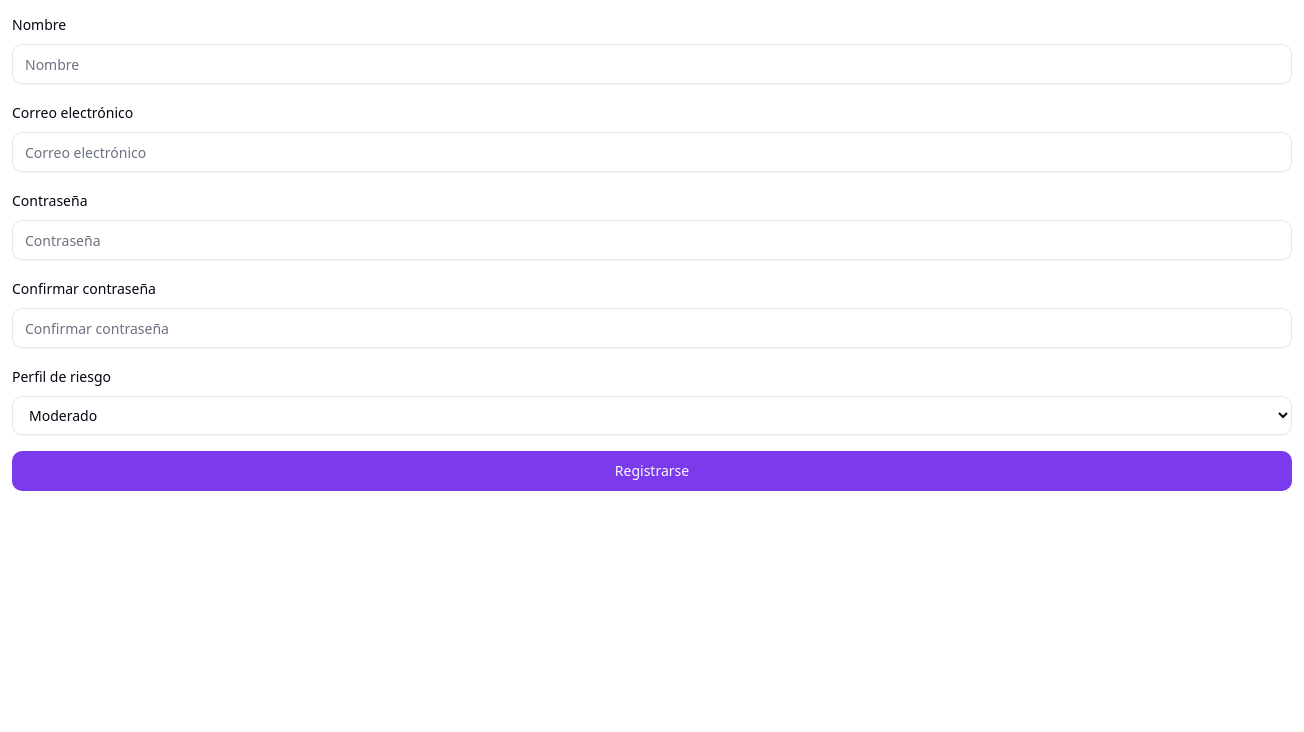
Test case: RegisterForm › muestra error cuando las contraseñas no coinciden
The width and height of the screenshot is (1304, 732).
Type "Jane" into the field with placeholder "Nombre" at (652,64), box [12,44,1292,84]
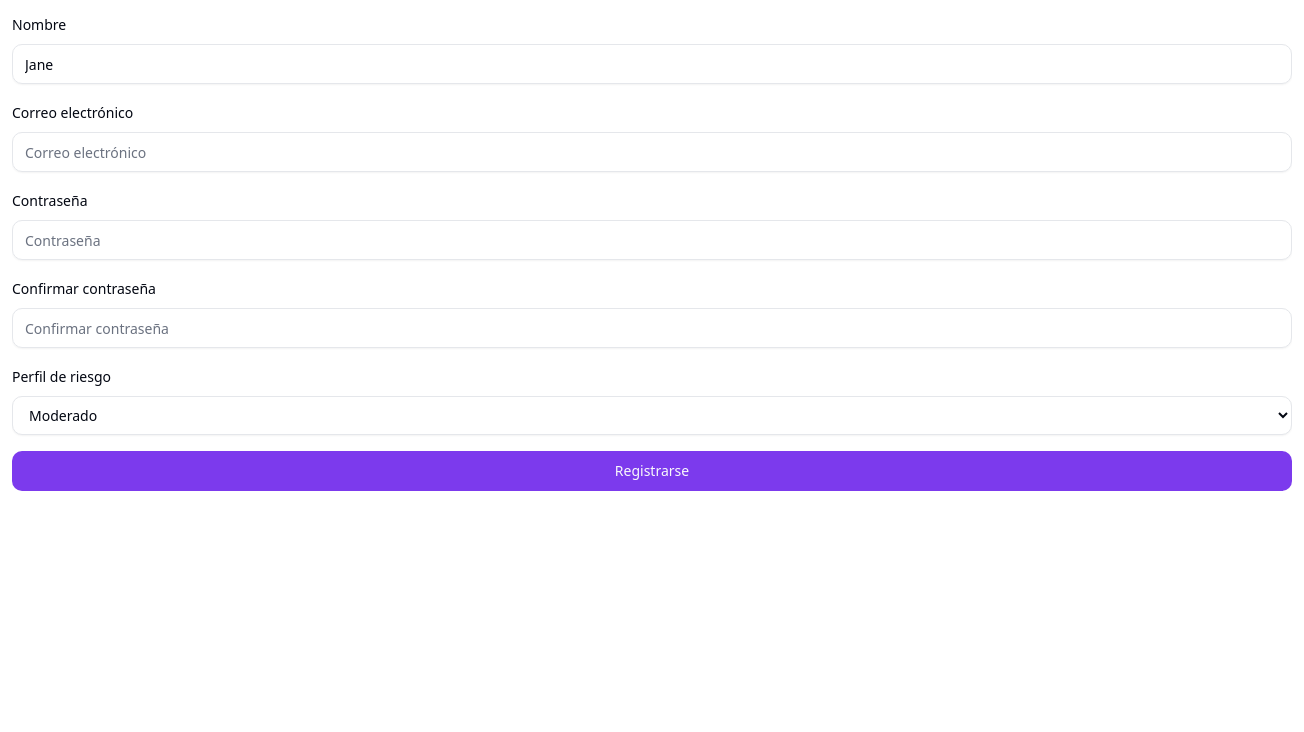
Type "user@example.com" into the field with placeholder "Correo electrónico" at (652,152), box [12,132,1292,172]
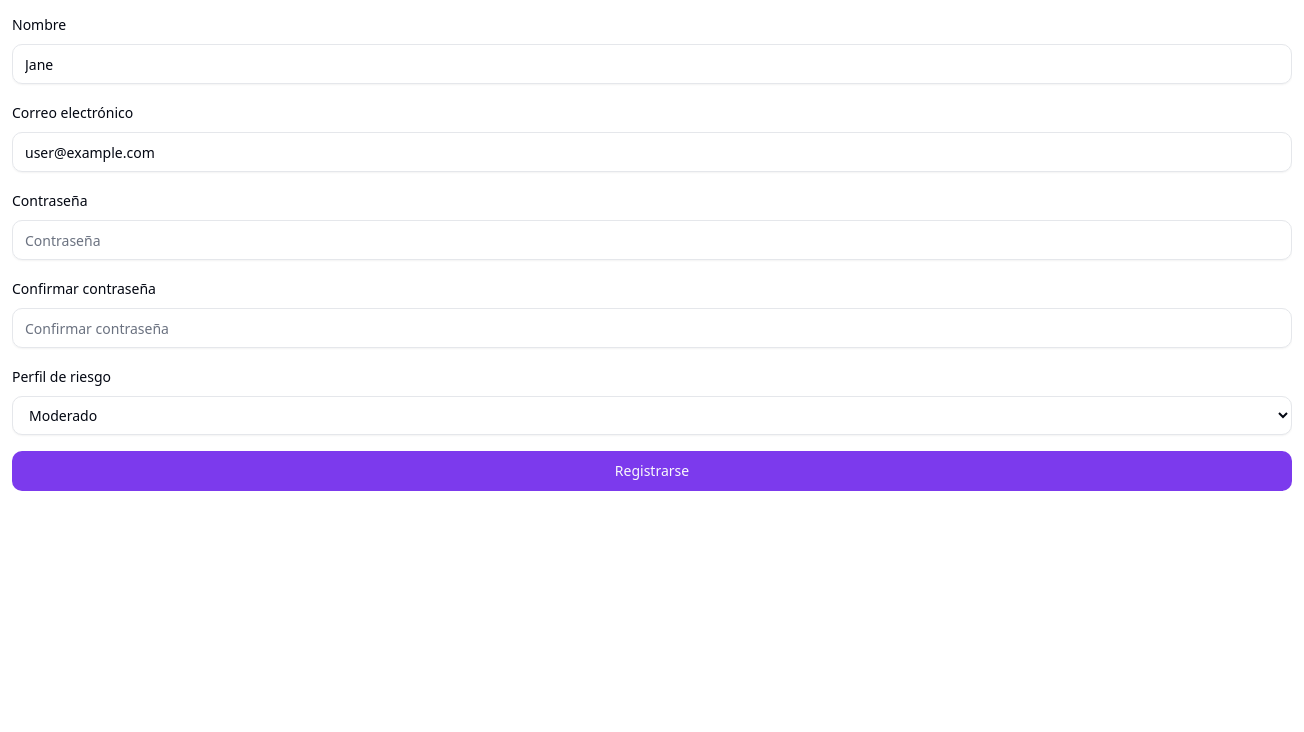
Type "secret123" into the password field with placeholder "Contraseña" at (652,240), box [12,220,1292,260]
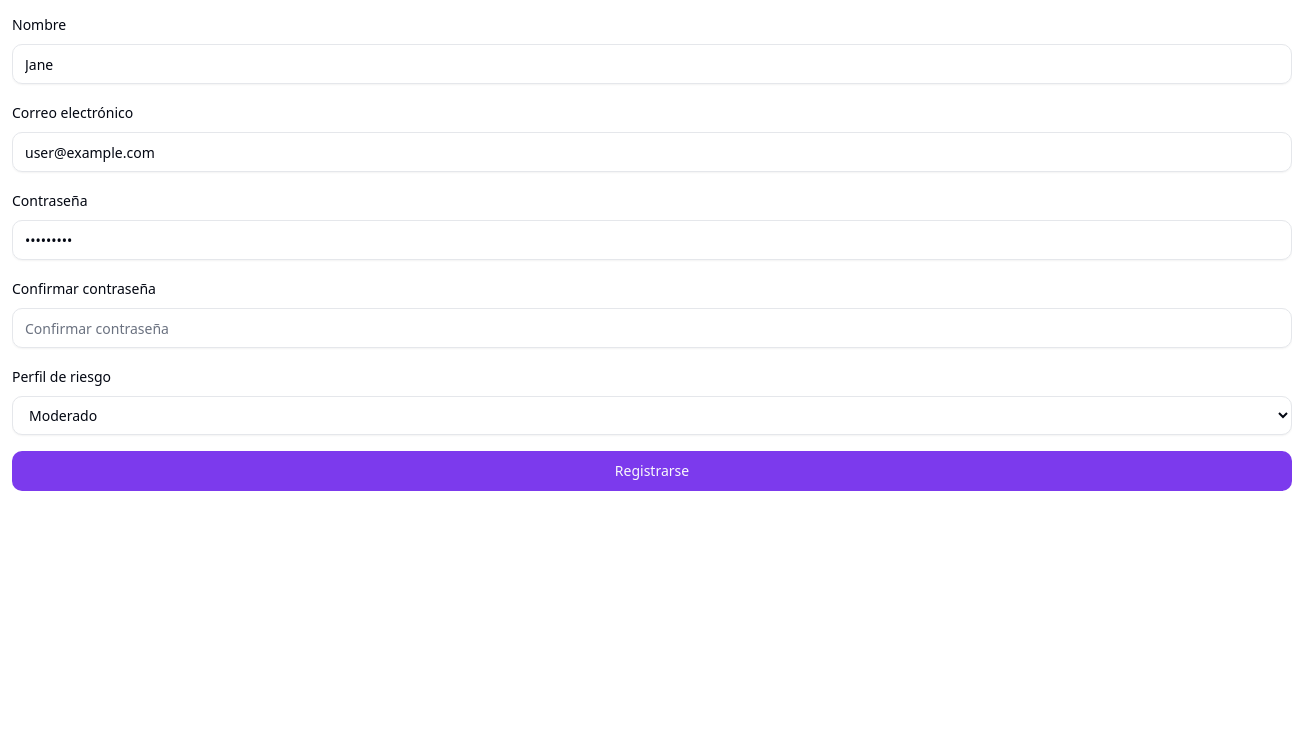
Type "otra" into the password field with placeholder "Confirmar contraseña" at (652,328), box [12,308,1292,348]
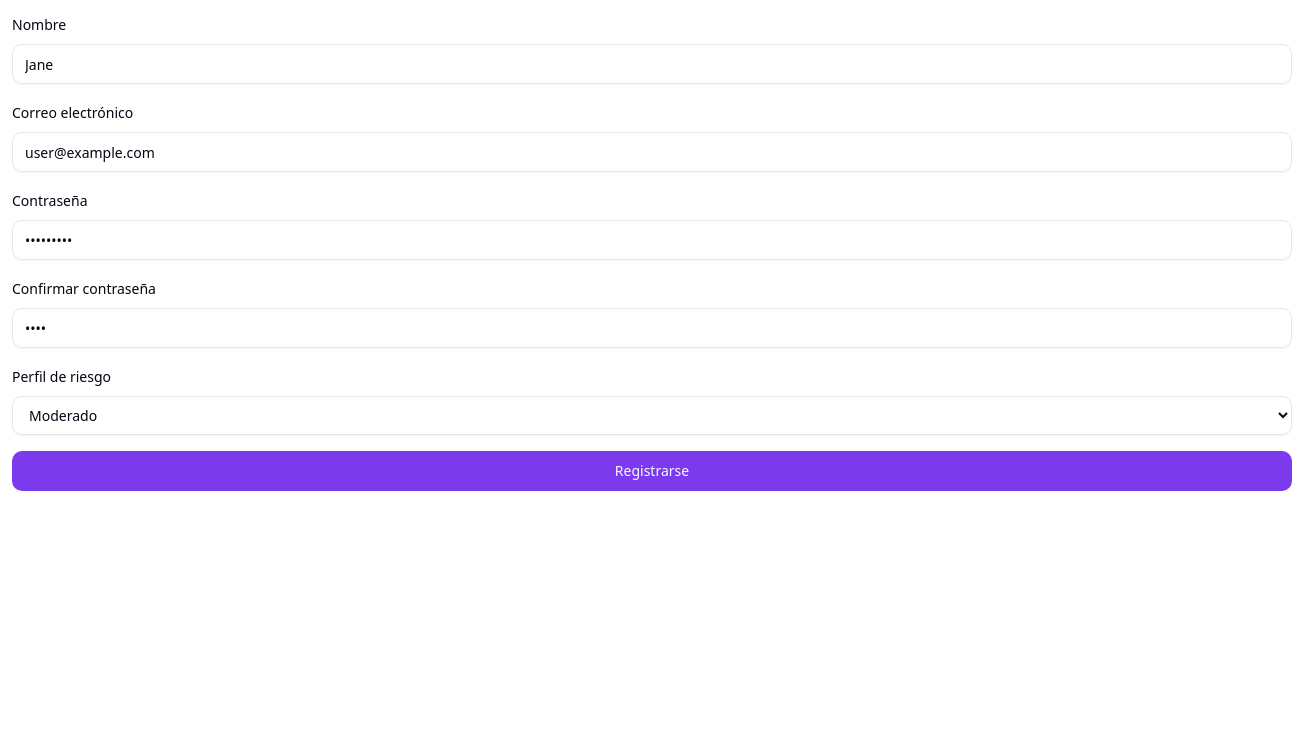
Submit the form named "registrarse"
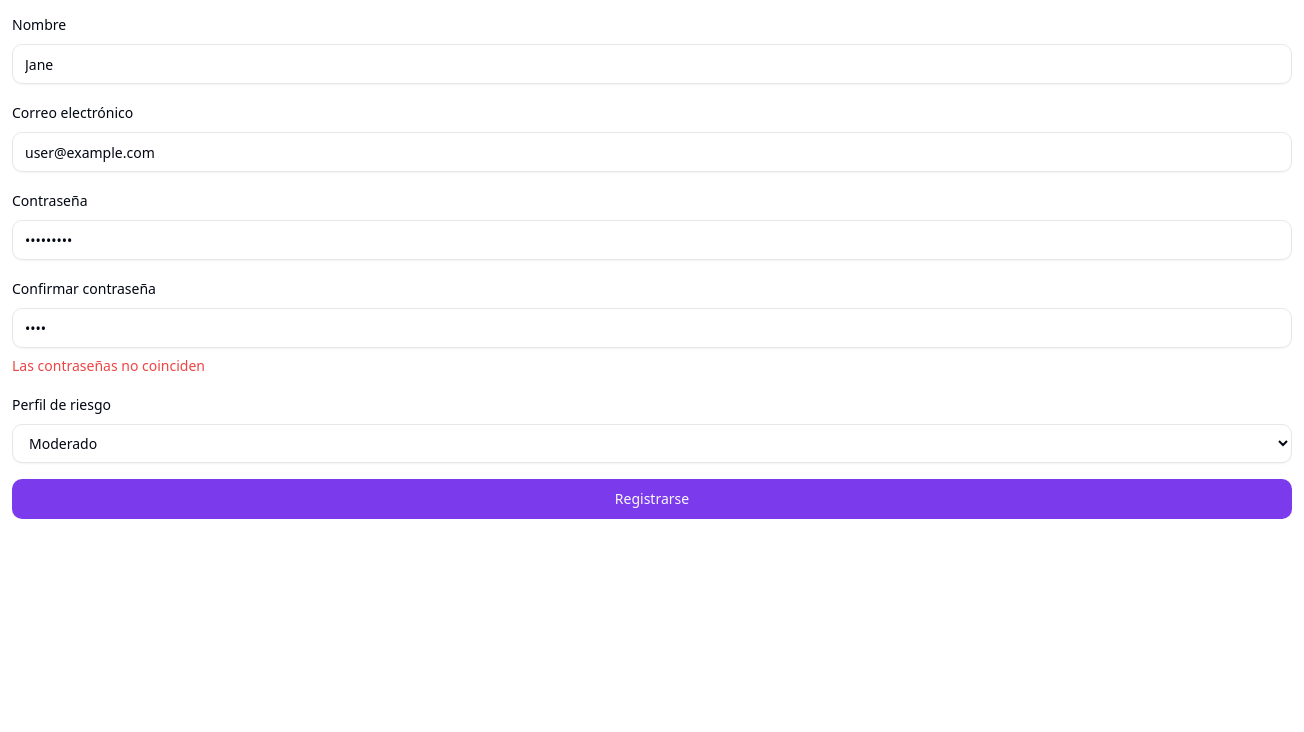
Expected: the text "Las contraseñas no coinciden" is shown, [12,356,205,375]
